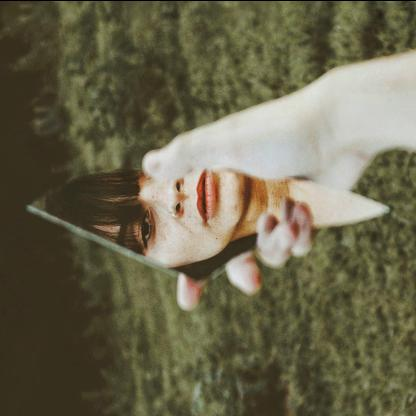Eye: (137, 206, 155, 253)
Mouth: (196, 167, 217, 224)
Nose: (145, 176, 185, 218)
